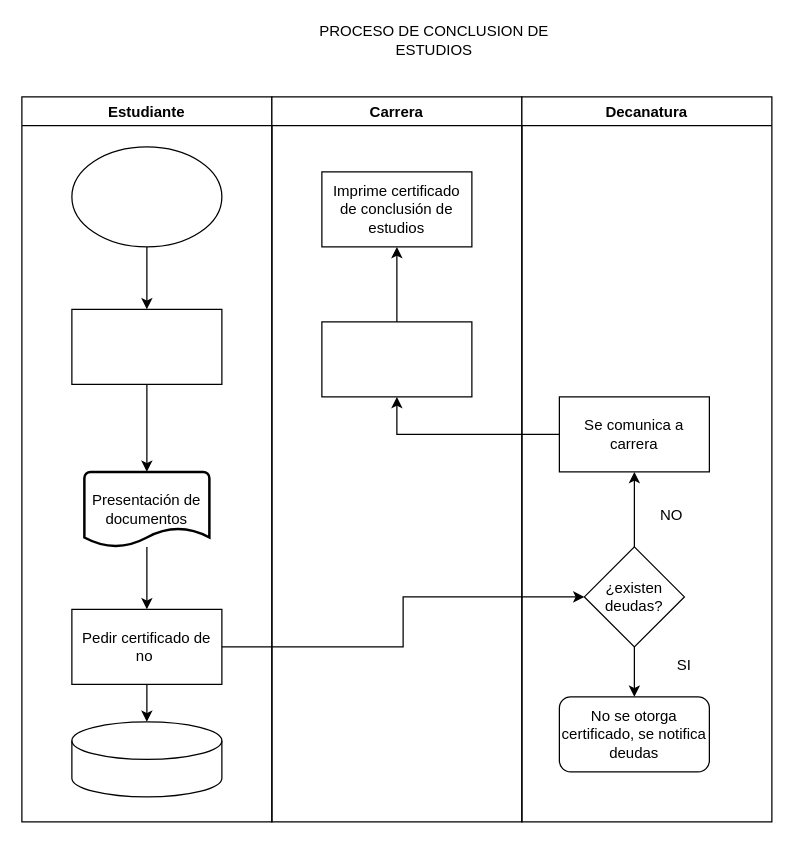
This 794x844 diagram has some shape labels left out. The centre of each missing label's shape, as x and y in pixels:
Confirma datos y solicitud: the point at 396,359
Guardado en BD: the point at 146,759
Solicitud de certificado de conclusión de estudios: the point at 146,346
Tiene todas la materias aprobadas: the point at 146,196
